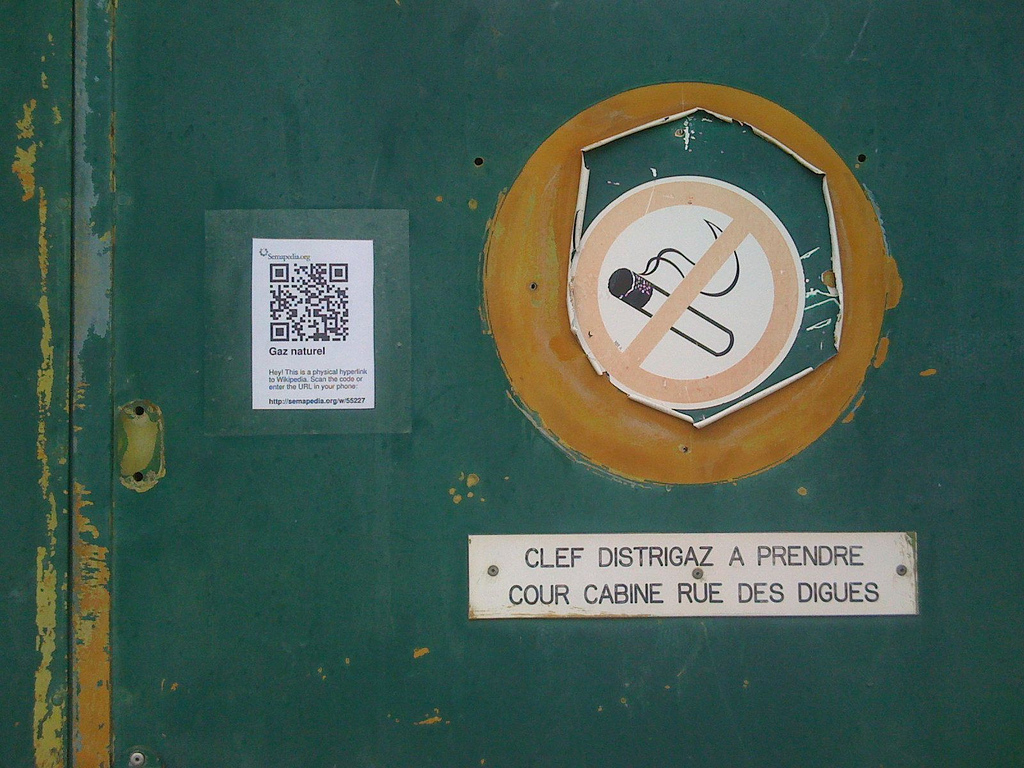QR-CODE: (270, 264, 348, 340)
